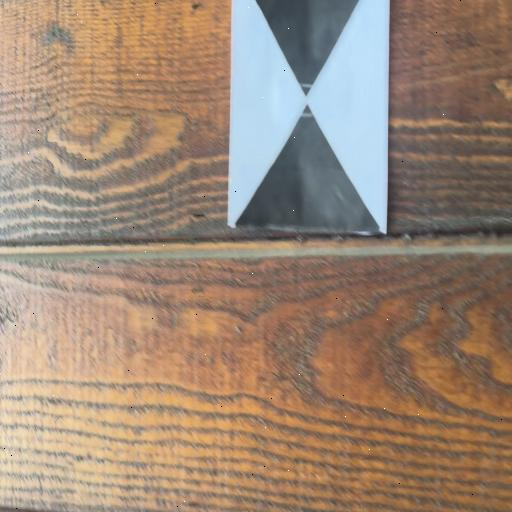target: (229, 1, 389, 225)
